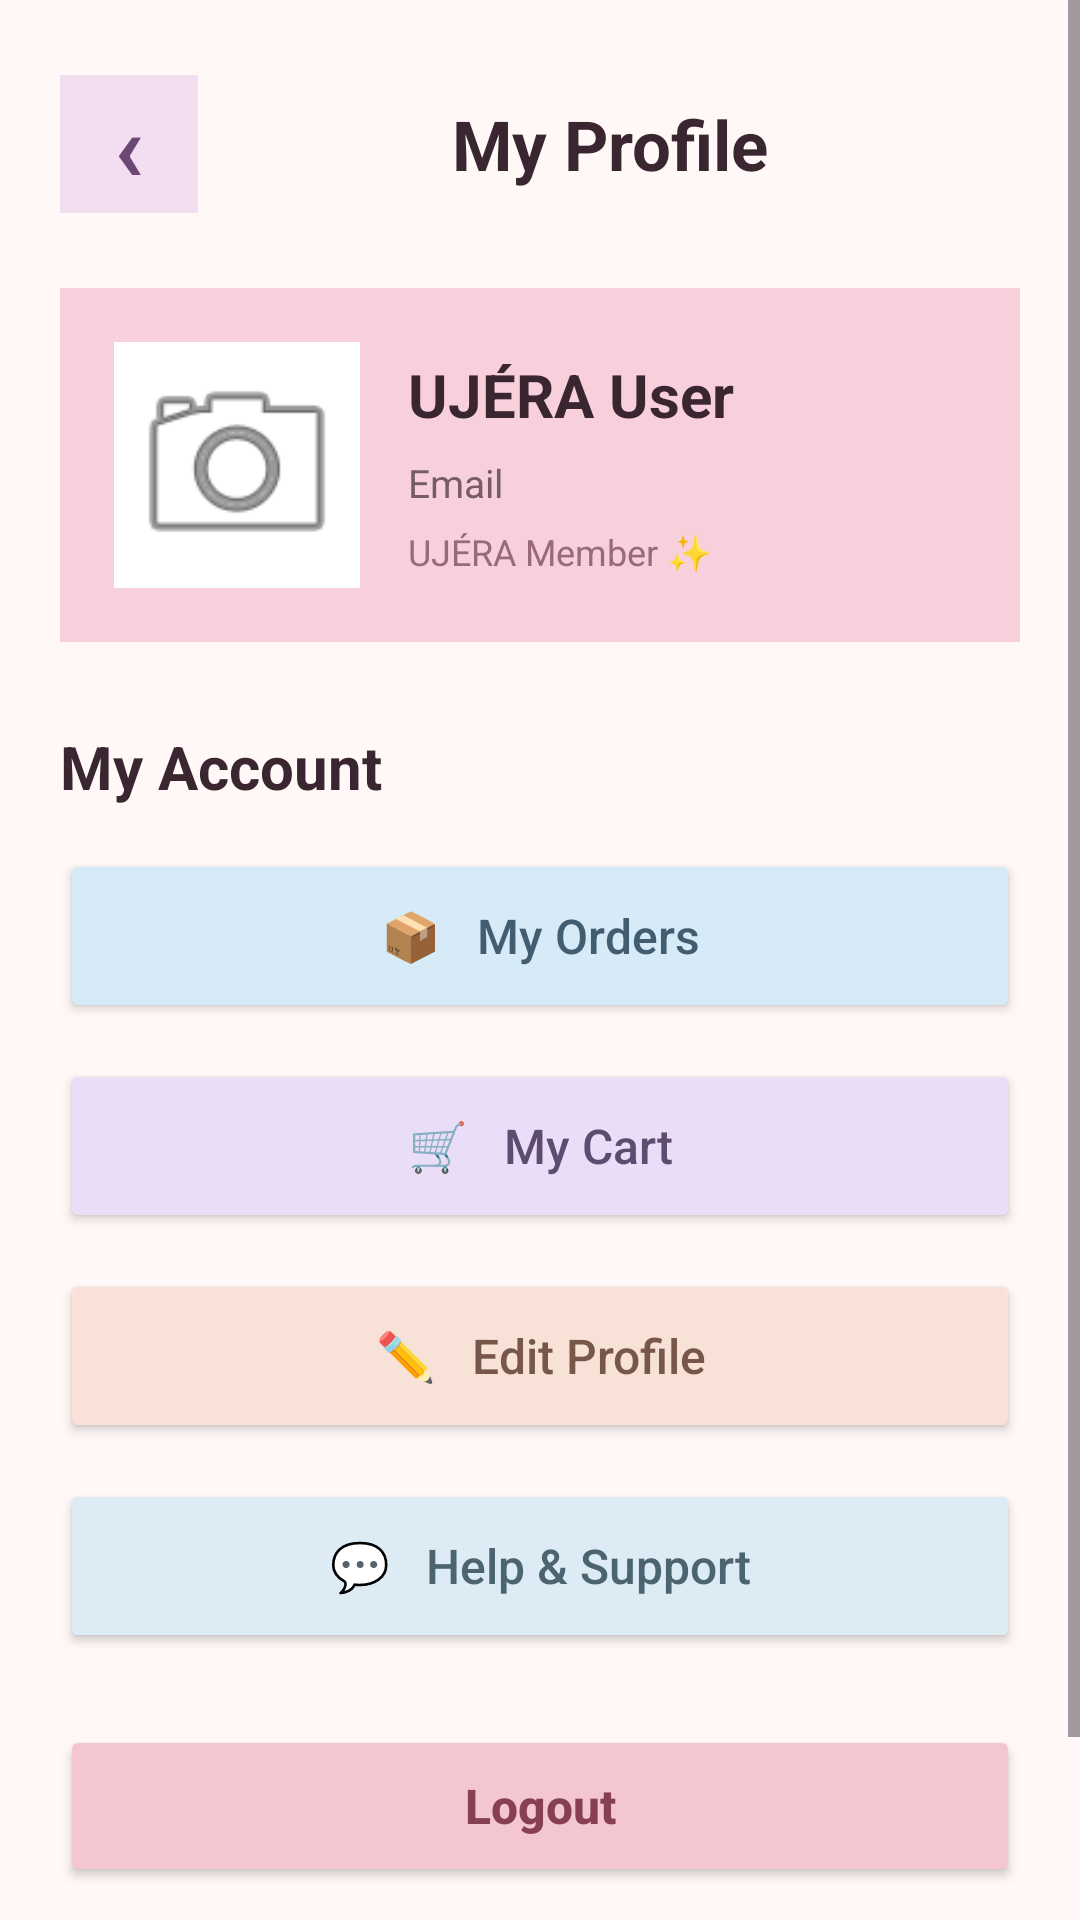

Screen size 1080×1920. Icon name, then its box in pixels as (x1, y1, x2, y2):
Foto profil: (114, 342, 360, 588)
